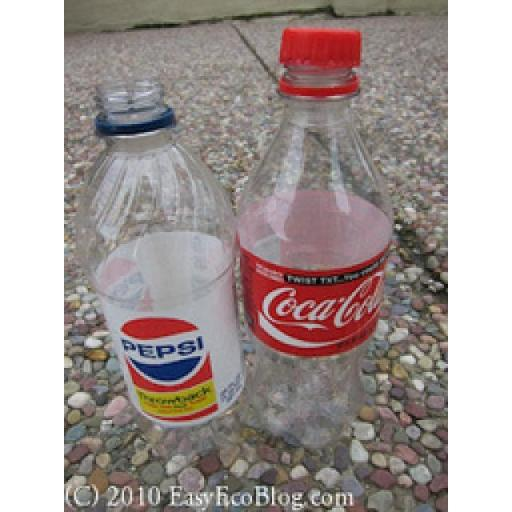plastic: (234, 32, 396, 450), (84, 82, 246, 462)
